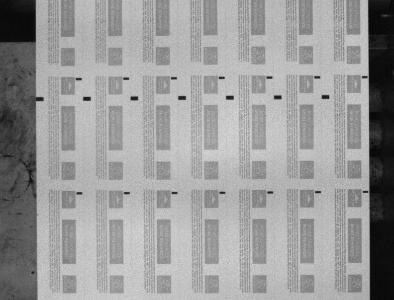backgroundclutter: (31, 271, 35, 274)
qblock: (83, 96, 91, 101), (130, 96, 139, 100), (274, 95, 282, 99), (226, 95, 234, 99), (178, 96, 186, 100), (322, 95, 330, 99), (36, 97, 44, 101)
smallqblock: (171, 77, 178, 80), (123, 77, 130, 80), (76, 192, 83, 195), (219, 76, 225, 79), (267, 76, 273, 79), (362, 75, 368, 78), (76, 77, 82, 80), (315, 76, 321, 79), (220, 191, 226, 194), (172, 191, 178, 194), (363, 190, 369, 193), (268, 191, 274, 194), (315, 191, 322, 193), (124, 192, 130, 194)
